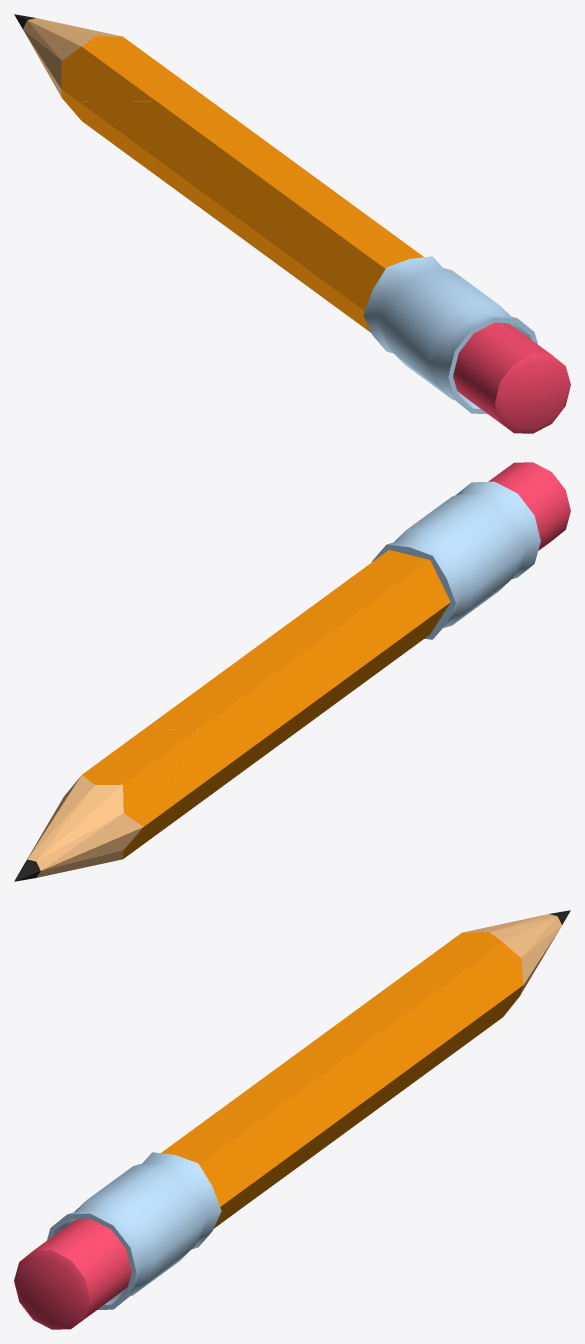
Rendered from Pencil.fbx.
3 renders of one model, top to bottom at view 1: azimuth 30°, elevation 25°; view 2: azimuth 150°, elevation 25°; view 3: azimuth 330°, elevation 25°, orthographic.
Visible parts, largest first — view 1: PENCIL8, PENCIL4, PENCIL9, PENCIL2, PENCIL5, PENCIL3, PENCIL7, PENCIL6, PENCIL1; view 2: PENCIL8, PENCIL4, PENCIL2, PENCIL5, PENCIL3, PENCIL7, PENCIL9, PENCIL1, PENCIL6; view 3: PENCIL8, PENCIL3, PENCIL9, PENCIL4, PENCIL6, PENCIL2, PENCIL7, PENCIL5, PENCIL1.
Boxes of the visible parts, <box> form: PENCIL8: <box>363,256,537,413</box>; PENCIL4: <box>164,118,314,256</box>; PENCIL9: <box>453,322,570,433</box>; PENCIL2: <box>39,26,183,101</box>; PENCIL5: <box>258,189,387,317</box>; PENCIL3: <box>58,81,233,202</box>; PENCIL7: <box>332,230,423,332</box>; PENCIL6: <box>264,177,365,270</box>; PENCIL1: <box>14,14,75,64</box>; PENCIL8: <box>371,481,540,639</box>; PENCIL4: <box>194,634,339,776</box>; PENCIL2: <box>47,729,197,868</box>; PENCIL5: <box>311,581,413,708</box>; PENCIL3: <box>82,693,245,867</box>; PENCIL7: <box>347,550,450,661</box>; PENCIL9: <box>488,462,570,550</box>; PENCIL1: <box>14,820,84,881</box>; PENCIL6: <box>274,596,328,722</box>; PENCIL8: <box>47,1152,221,1309</box>; PENCIL3: <box>359,973,533,1105</box>; PENCIL9: <box>14,1218,131,1329</box>; PENCIL4: <box>262,1008,402,1147</box>; PENCIL6: <box>238,1080,341,1210</box>; PENCIL2: <box>387,921,541,987</box>; PENCIL7: <box>161,1129,258,1228</box>; PENCIL5: <box>194,1079,273,1156</box>; PENCIL1: <box>513,910,570,966</box>.
Size of the model in its own units: 53.18 by 53.05 by 518.
1 material, 1 textured.
